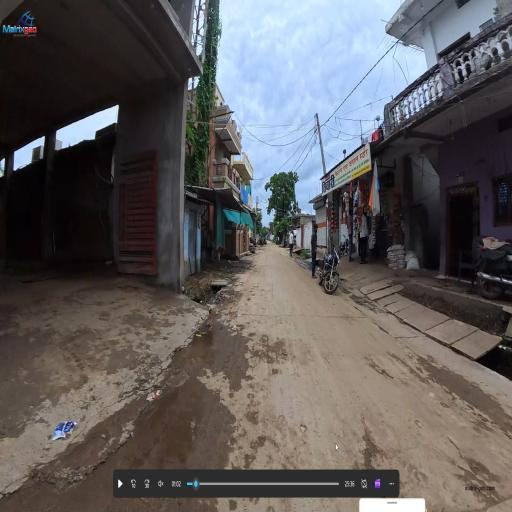longitudinal_crack: (221, 306, 359, 325)
